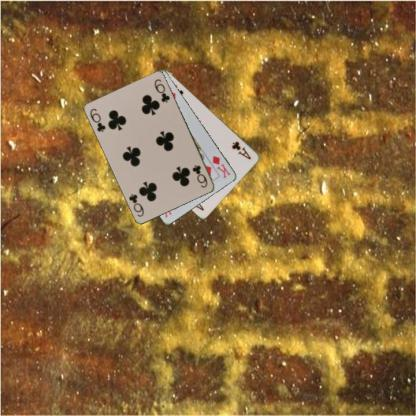6c: (190, 162, 209, 189), (88, 106, 107, 133)
Ac: (230, 138, 252, 160)
Kd: (209, 153, 232, 180)
